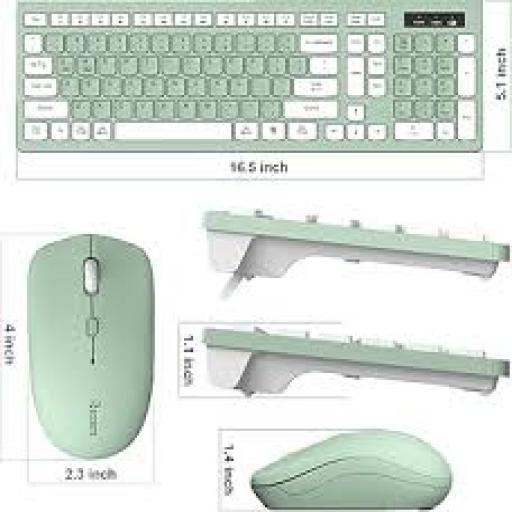KEYBOARD-2: (18, 0, 481, 151)
